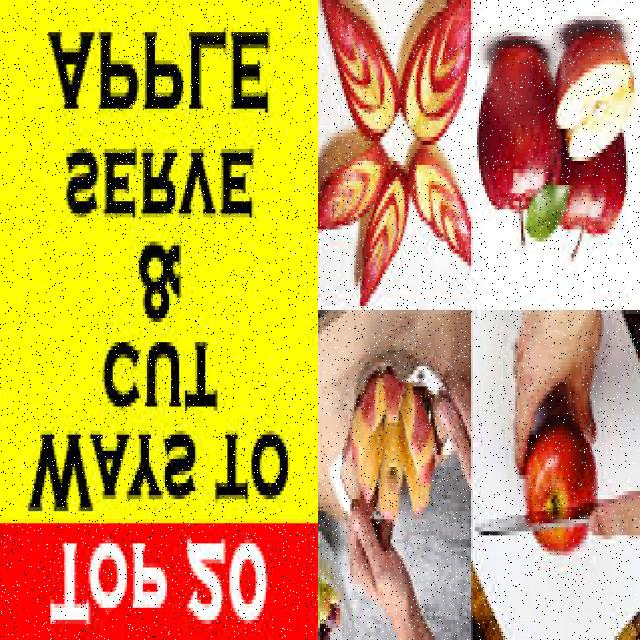Apple: (482, 36, 557, 211), (552, 30, 636, 170), (525, 417, 599, 569), (550, 146, 630, 258)
